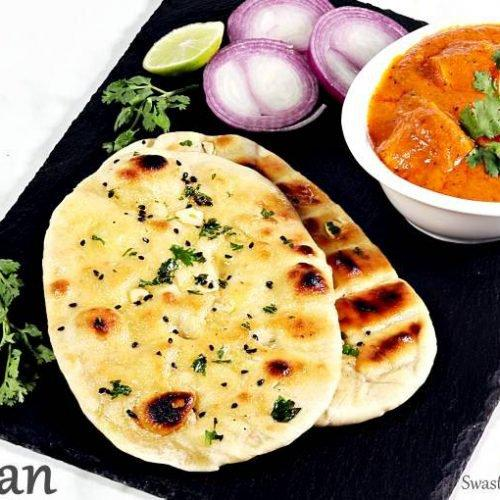Naan: (40, 133, 438, 457)
